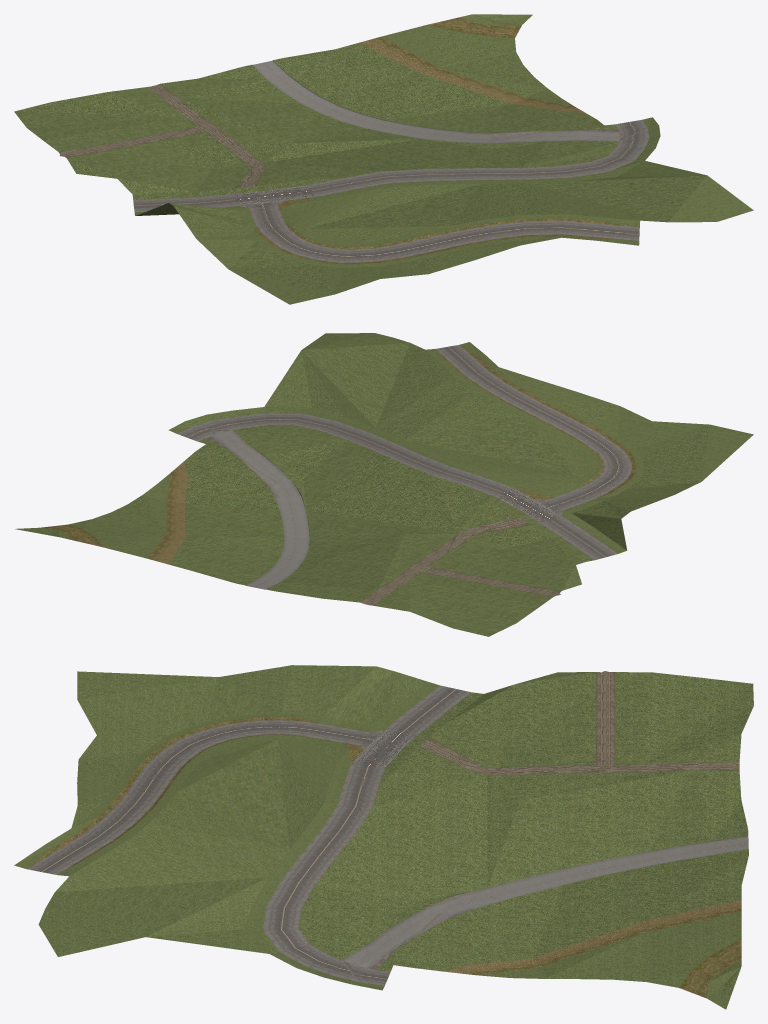
Rendered from s_lodbit_10.obj.
3 renders of one model, top to bottom at view 1: azimuth 30°, elevation 25°; view 2: azimuth 150°, elevation 25°; view 3: azimuth 270°, elevation 25°, orthographic. The views are drawn at different scales.
Parts seen in each view (by area): view 1: s_lodbit_10; view 2: s_lodbit_10; view 3: s_lodbit_10.
Part boxes in pixels (<box>): s_lodbit_10: <box>14,14,753,304</box>; s_lodbit_10: <box>15,333,753,636</box>; s_lodbit_10: <box>14,665,753,1009</box>.
Size of the model in its own units: 252 by 19.62 by 252.
13 materials, 13 textured.
